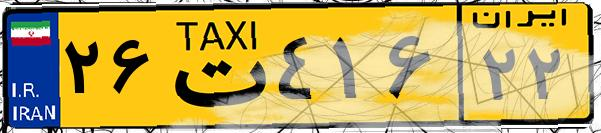1: (330, 28, 385, 110)
2: (57, 26, 110, 100), (475, 38, 525, 113), (525, 38, 570, 115)
4: (270, 28, 330, 110)
6: (385, 28, 445, 110), (110, 28, 158, 98)
ت: (158, 12, 270, 120)
